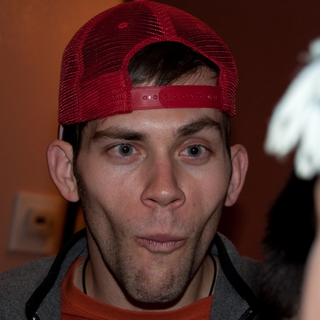eye: (101, 136, 145, 163), (176, 139, 217, 163)
